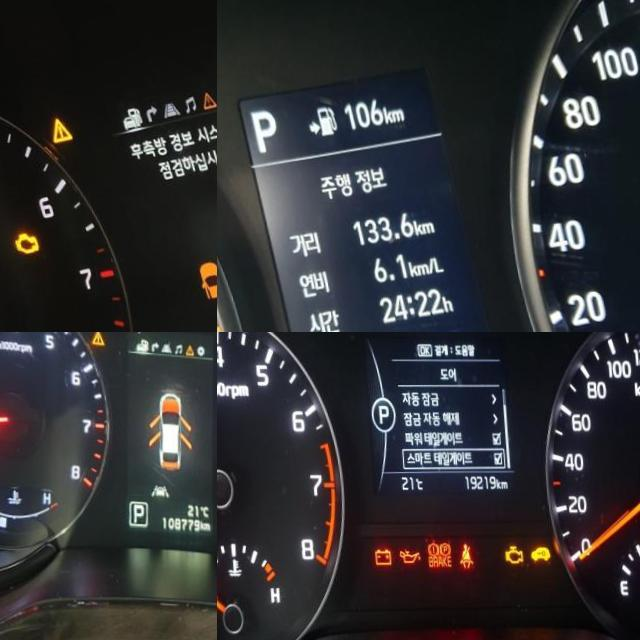Central Warning lamp: (43, 114, 69, 144), (84, 332, 100, 344)
